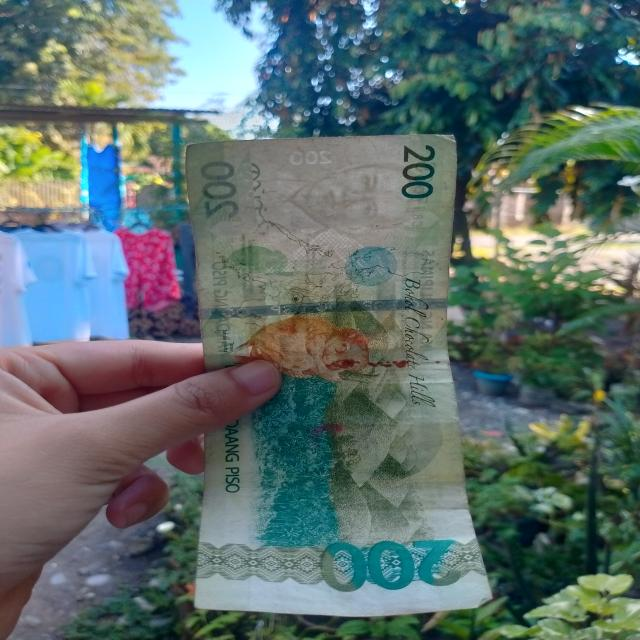security_thread: (206, 298, 457, 318)
see_through_mark: (228, 156, 274, 249)
value: (312, 534, 468, 598)
value_watermark: (284, 150, 340, 169)
watermark: (267, 157, 403, 240)
